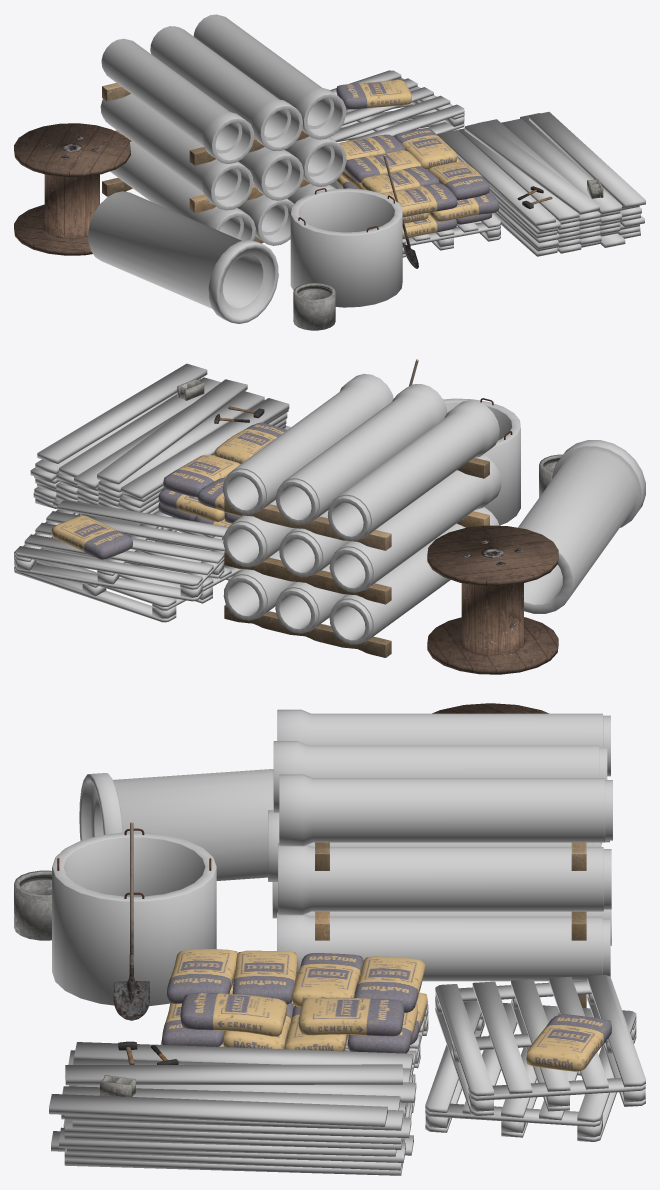
The picture shows the model from 3 angles, top to bottom: view 1: azimuth 30°, elevation 25°; view 2: azimuth 150°, elevation 25°; view 3: azimuth 270°, elevation 25°; orthographic projection. The views are drawn at different scales.
Parts seen in each view (by area): view 1: pipe_stack_planks, Planks, Concrete_Pipe2, Pallet1.002, Concrete_Pipe1, Cylinder.001, Pallet2, Small_Con_Cyl, Cement.012, Pallet1, shovel; view 2: pipe_stack_planks, Planks, Cylinder.001, Pallet2, Concrete_Pipe2, Pallet1.002, Pallet1, Concrete_Pipe1, Cement.012, Small_Con_Cyl; view 3: pipe_stack_planks, Planks, Pallet1.002, Concrete_Pipe1, Pallet2, Concrete_Pipe2, Pallet1, Cement.012, Small_Con_Cyl, shovel, Cylinder.001, Concrete_Block.
Part boxes in pixels (left/top/right/bottom): pipe_stack_planks: left=100, top=14, right=346, bottom=245; Planks: left=437, top=112, right=645, bottom=256; Concrete_Pipe2: left=88, top=191, right=278, bottom=323; Pallet1.002: left=330, top=128, right=500, bottom=257; Concrete_Pipe1: left=290, top=188, right=402, bottom=307; Cylinder.001: left=14, top=123, right=130, bottom=255; Pallet2: left=330, top=70, right=464, bottom=141; Small_Con_Cyl: left=293, top=283, right=335, bottom=330; Cement.012: left=336, top=79, right=411, bottom=109; Pallet1: left=337, top=102, right=458, bottom=141; shovel: left=383, top=155, right=418, bottom=268; pipe_stack_planks: left=223, top=374, right=501, bottom=657; Planks: left=30, top=363, right=290, bottom=515; Cylinder.001: left=427, top=525, right=558, bottom=674; Pallet2: left=15, top=500, right=228, bottom=601; Concrete_Pipe2: left=518, top=440, right=645, bottom=613; Pallet1.002: left=153, top=422, right=286, bottom=539; Pallet1: left=14, top=514, right=242, bottom=622; Concrete_Pipe1: left=443, top=398, right=520, bottom=525; Cement.012: left=51, top=515, right=132, bottom=559; Small_Con_Cyl: left=539, top=454, right=562, bottom=497; pipe_stack_planks: left=268, top=709, right=612, bottom=1007; Planks: left=49, top=1042, right=416, bottom=1175; Pallet1.002: left=160, top=949, right=428, bottom=1071; Concrete_Pipe1: left=52, top=828, right=216, bottom=1006; Pallet2: left=435, top=974, right=645, bottom=1115; Concrete_Pipe2: left=79, top=769, right=273, bottom=880; Pallet1: left=425, top=1001, right=636, bottom=1141; Cement.012: left=526, top=1014, right=611, bottom=1071; Small_Con_Cyl: left=14, top=870, right=51, bottom=940; shovel: left=113, top=822, right=149, bottom=1020; Cylinder.001: left=432, top=703, right=548, bottom=713; Concrete_Block: left=100, top=1075, right=135, bottom=1096.
Size of the model in its own units: 15.26 by 4.38 by 11.59.
